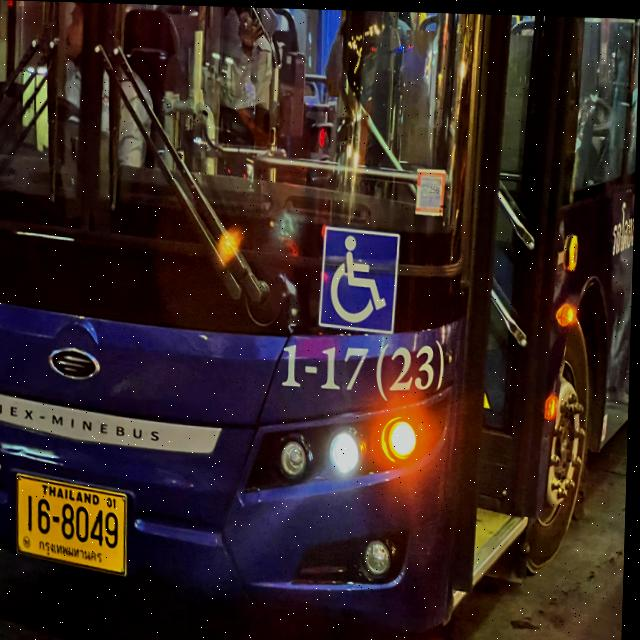TSB-Bus: (0, 0, 640, 638)
